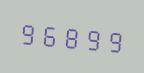eight: (60, 19, 80, 53)
nine: (81, 20, 101, 55), (102, 22, 122, 57), (18, 15, 38, 49)
six: (39, 17, 59, 51)
